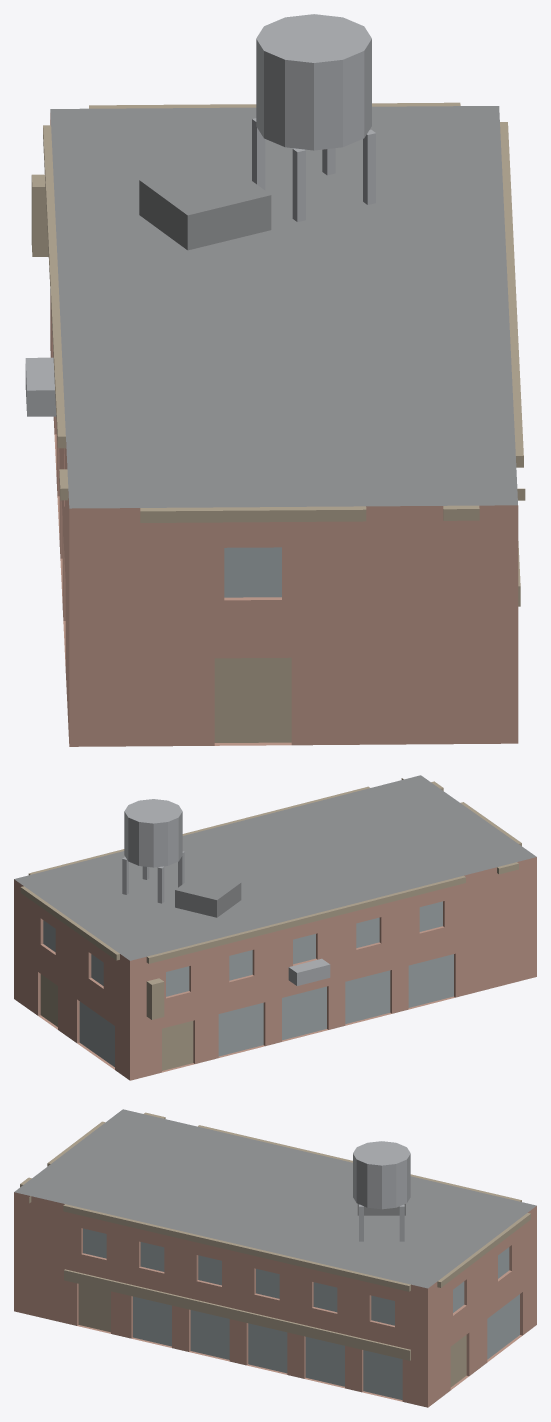
The model's file is doitt-262867__lod_0.glb.
3 views of the same model, one above another, from view 1: azimuth 30°, elevation 25°; view 2: azimuth 150°, elevation 25°; view 3: azimuth 270°, elevation 25° (orthographic). The views are drawn at different scales.
Size of the model in its own units: 26.37 by 13.57 by 32.5.
